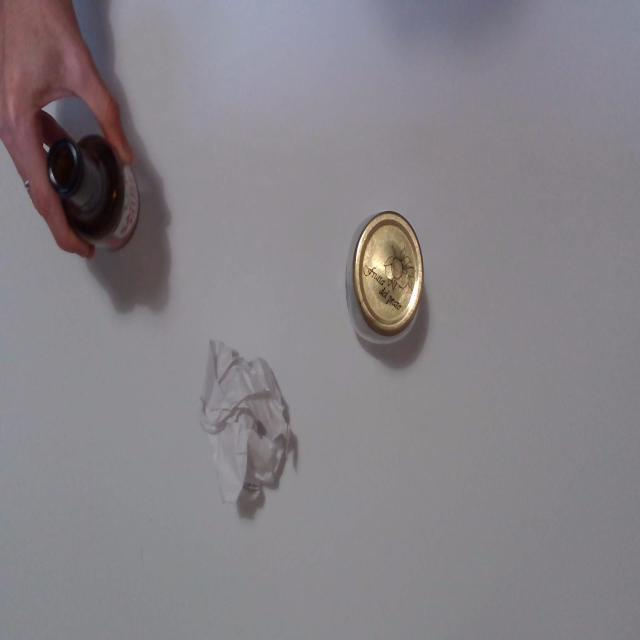Glass: (45, 134, 143, 255)
Paper: (196, 334, 298, 516)
